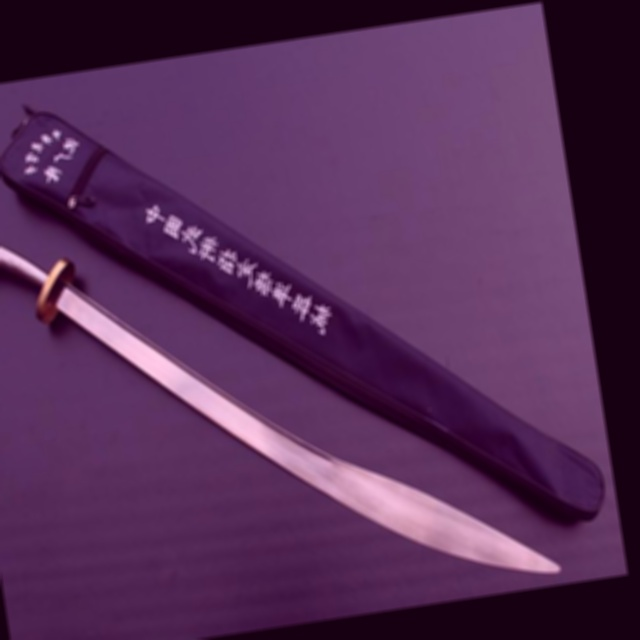Sharp-Object: (0, 147, 562, 640)
